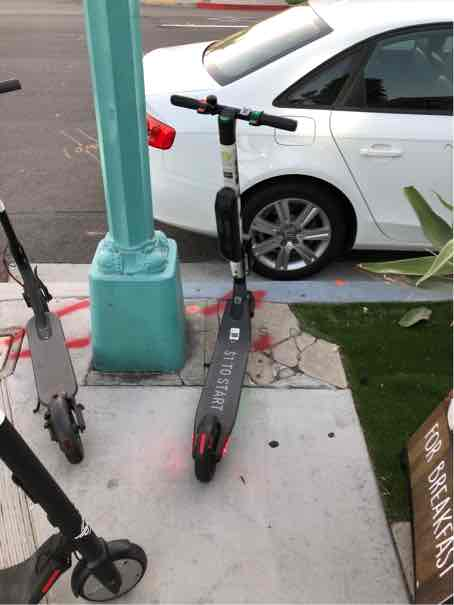scooter: (161, 97, 295, 488)
